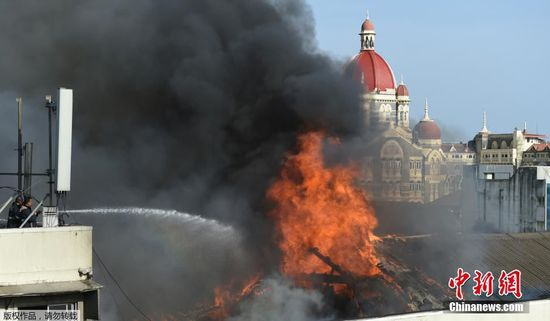fire: (261, 120, 401, 280)
